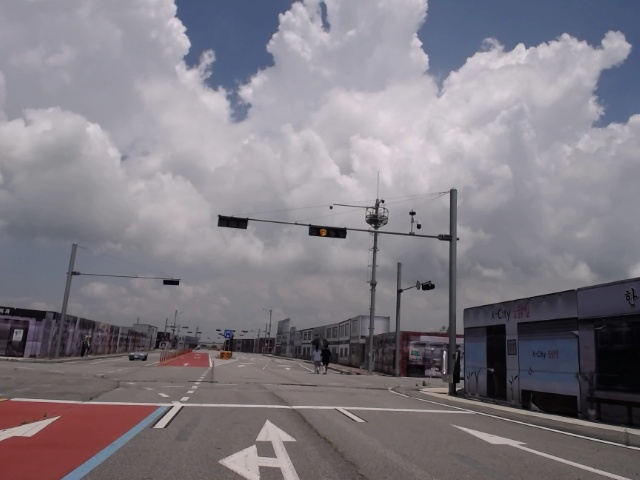orange_4: (309, 223, 347, 238)
